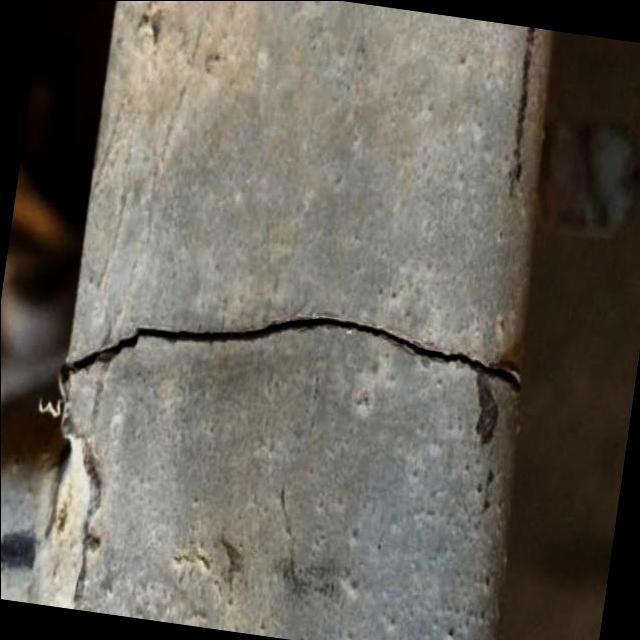defect: (58, 306, 526, 399)
